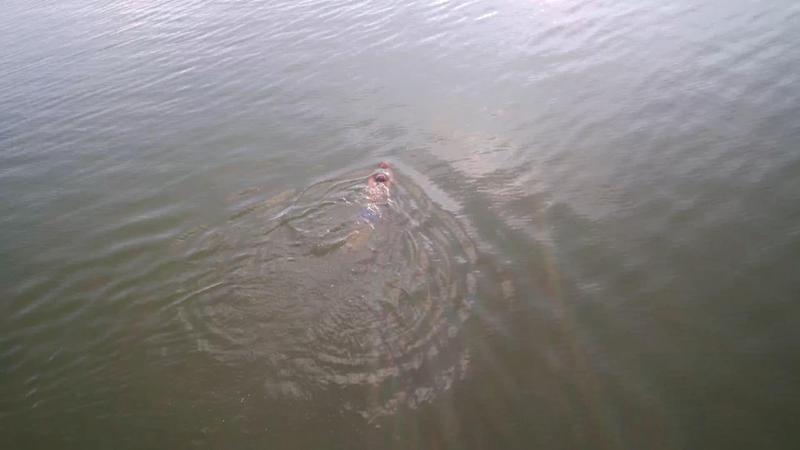swimmers: (345, 160, 394, 251)
